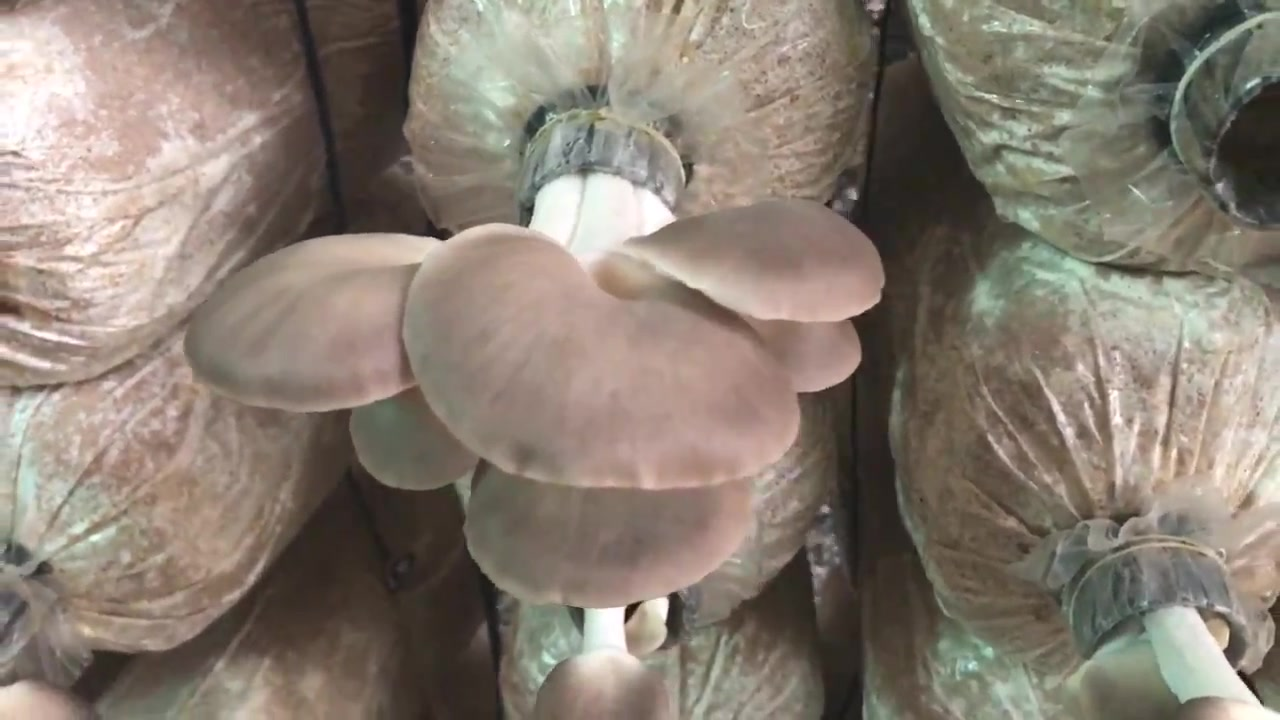nam: (185, 112, 885, 607), (1073, 541, 1280, 718), (535, 598, 668, 720)
